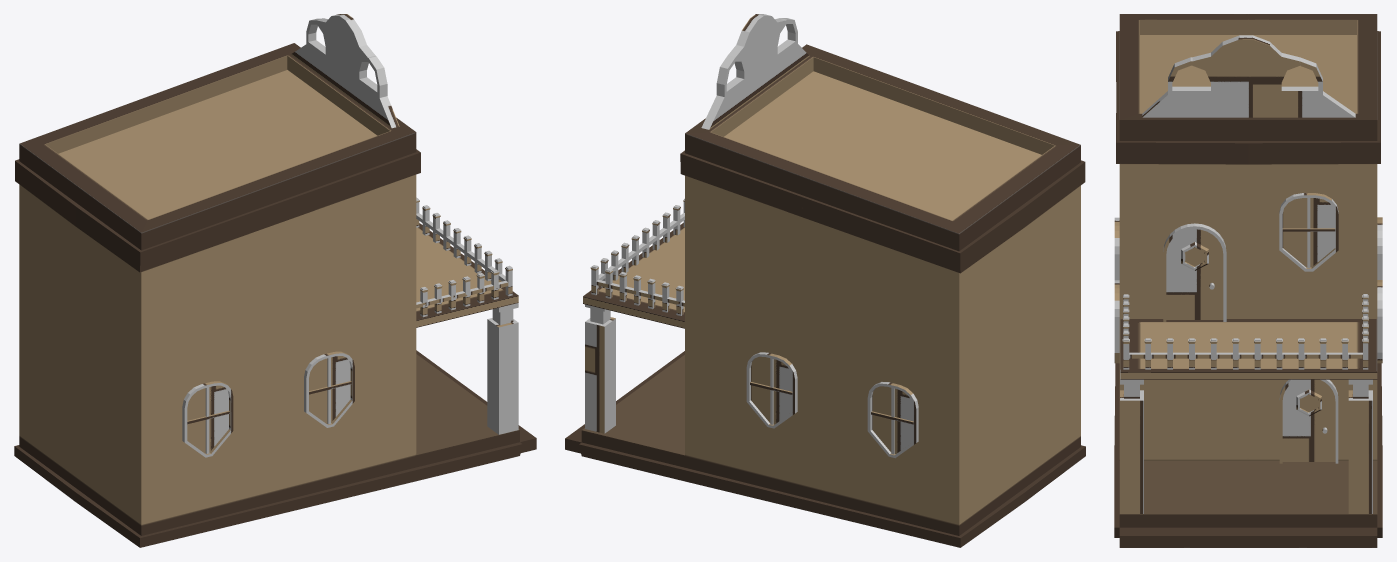
The model's file is Estrutura2.fbx.
3 renders of one model, left to right at view 1: azimuth 30°, elevation 25°; view 2: azimuth 150°, elevation 25°; view 3: azimuth 270°, elevation 25°, orthographic. The views are drawn at different scales.
Visible parts, largest first — view 1: Cube, Plane, Cube.003, Cube.001, Cube.009, Cube.010, Cube.005, Cube.007; view 2: Cube, Plane, Cube.003, Cube.002, Cube.004, Cube.008, Cube.005, Cube.006; view 3: Cube, Cube.003, Plane, Cylinder.001, Cylinder.002, Cube.012, Cube.005, Cube.002, Cube.001, Cube.004, Cube.010, Cube.006 (+2 smaller).
Part boxes in pixels (x1,y1,x2,y2): Cube: (14, 43, 536, 547); Plane: (291, 14, 399, 128); Cube.003: (416, 223, 518, 327); Cube.001: (487, 303, 518, 434); Cube.009: (182, 381, 233, 457); Cube.010: (304, 351, 354, 427); Cube.005: (416, 197, 512, 296); Cube.007: (416, 269, 508, 317); Cube: (565, 44, 1085, 547); Plane: (701, 14, 809, 129); Cube.003: (583, 223, 684, 328); Cube.002: (585, 304, 615, 433); Cube.004: (746, 352, 797, 428); Cube.008: (867, 382, 918, 458); Cube.005: (598, 198, 684, 288); Cube.006: (590, 265, 684, 315); Cube: (1114, 14, 1382, 547); Cube.003: (1120, 319, 1377, 379); Plane: (1142, 35, 1355, 117); Cylinder.001: (1163, 223, 1226, 321); Cylinder.002: (1279, 379, 1338, 463); Cube.012: (1279, 193, 1338, 271); Cube.005: (1122, 338, 1362, 369); Cube.002: (1348, 379, 1372, 513); Cube.001: (1120, 370, 1143, 513); Cube.004: (1377, 280, 1382, 363); Cube.010: (1114, 280, 1119, 363); Cube.006: (1362, 294, 1368, 369).
Bounding box in the file's own units: 843 × 847 × 465.
Materials: 10 (10 with a texture image).
